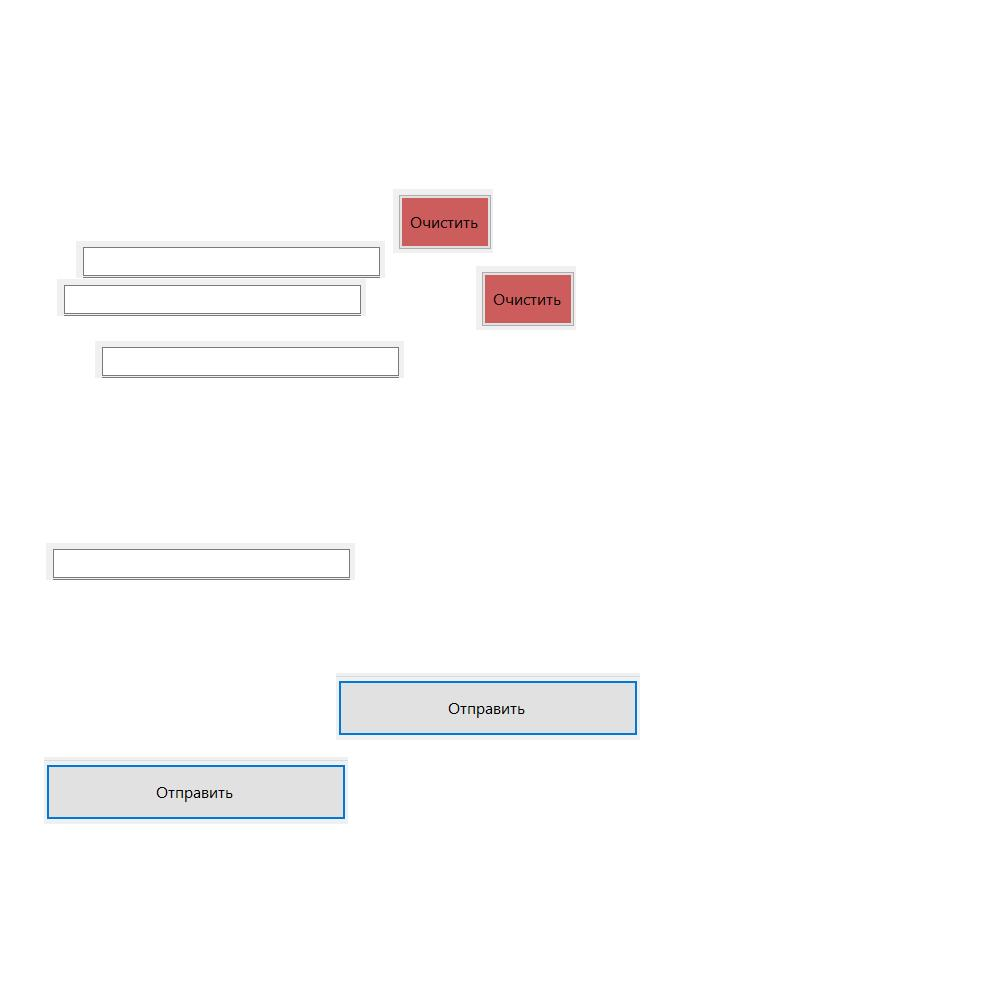Button: (336, 673, 640, 740), (44, 757, 348, 824), (393, 189, 493, 253), (476, 266, 576, 330)
EditText-: (57, 279, 366, 316), (95, 341, 404, 378), (46, 543, 355, 580), (76, 241, 385, 278)
